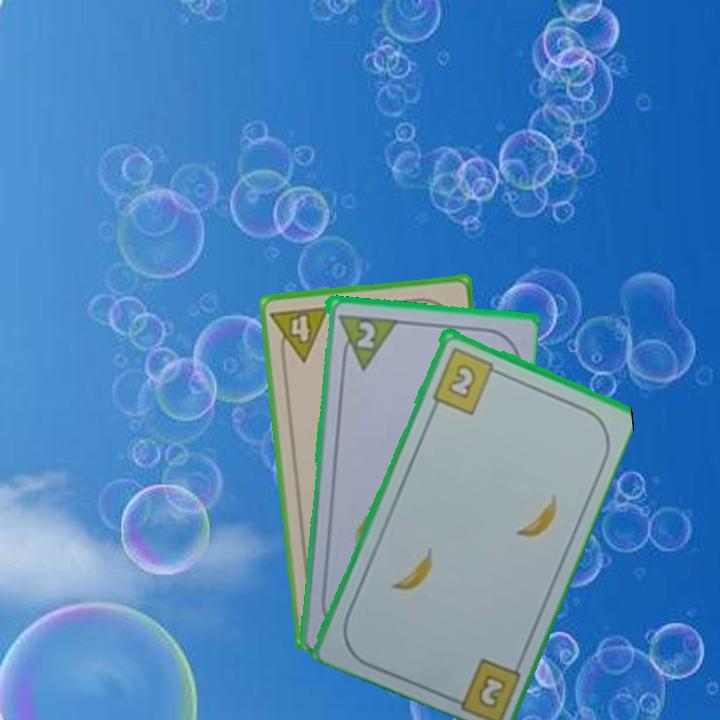2b: (428, 343, 504, 417), (474, 670, 510, 711)
2p: (333, 310, 397, 372)
4p: (267, 303, 332, 366)
